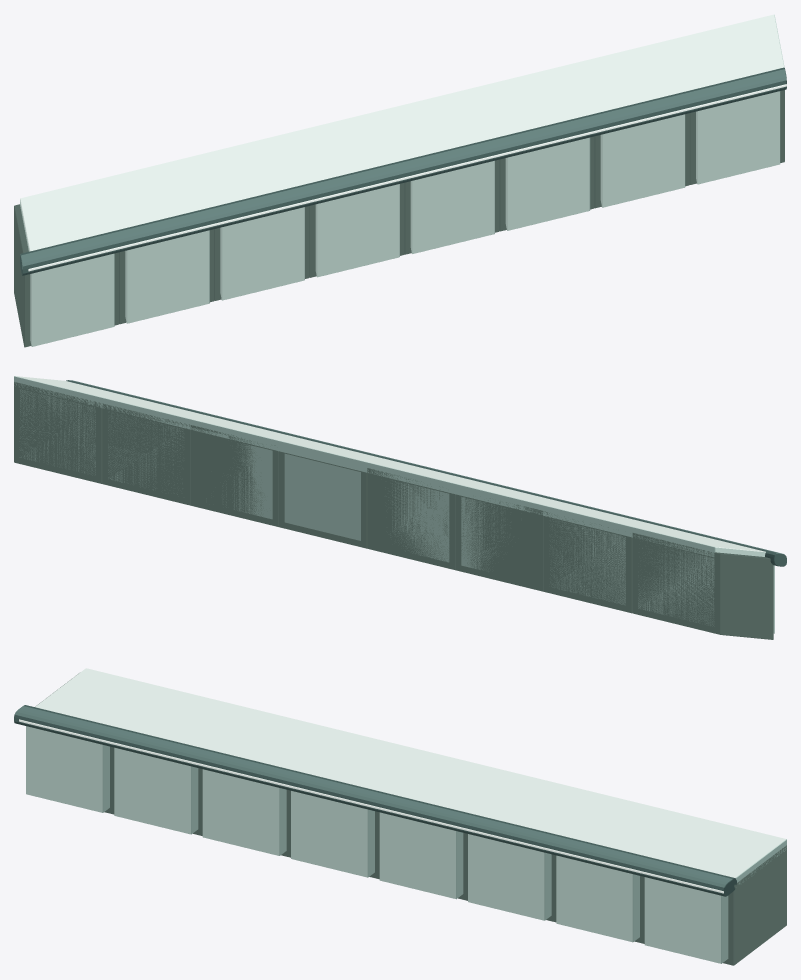
File: Terrain_TopRun8L.gltf
3 renders of one model, top to bottom at view 1: azimuth 30°, elevation 25°; view 2: azimuth 150°, elevation 25°; view 3: azimuth 330°, elevation 25°, orthographic. The views are drawn at different scales.
Parts seen in each view (by area): view 1: Terrain_TopRun8L_baked; view 2: Terrain_TopRun8L_baked; view 3: Terrain_TopRun8L_baked.
Part boxes in pixels (x1=…): Terrain_TopRun8L_baked: x1=14, y1=14, x2=786, y2=347; Terrain_TopRun8L_baked: x1=14, y1=376, x2=786, y2=639; Terrain_TopRun8L_baked: x1=14, y1=668, x2=786, y2=965.
Size of the model in its own units: 8.33 by 1.18 by 0.74.
